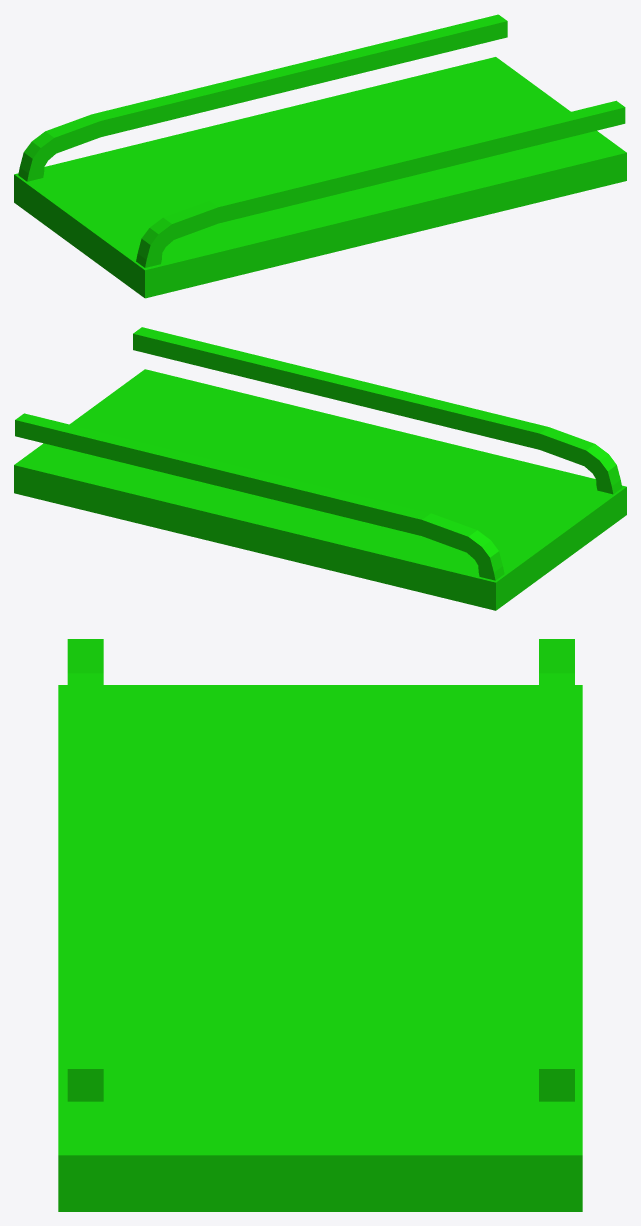
File: ground.glb
The picture shows the model from 3 angles, top to bottom: view 1: azimuth 30°, elevation 25°; view 2: azimuth 150°, elevation 25°; view 3: azimuth 270°, elevation 25°; orthographic projection. The views are drawn at different scales.
Parts seen in each view (by area): view 1: Cube; view 2: Cube; view 3: Cube.
Part boxes in pixels (box(x1,y1,x2,y2)): Cube: box(14, 14, 626, 298); Cube: box(14, 327, 626, 610); Cube: box(58, 639, 582, 1211).
Size of the model in its own units: 19.33 by 2.74 by 9.09.
